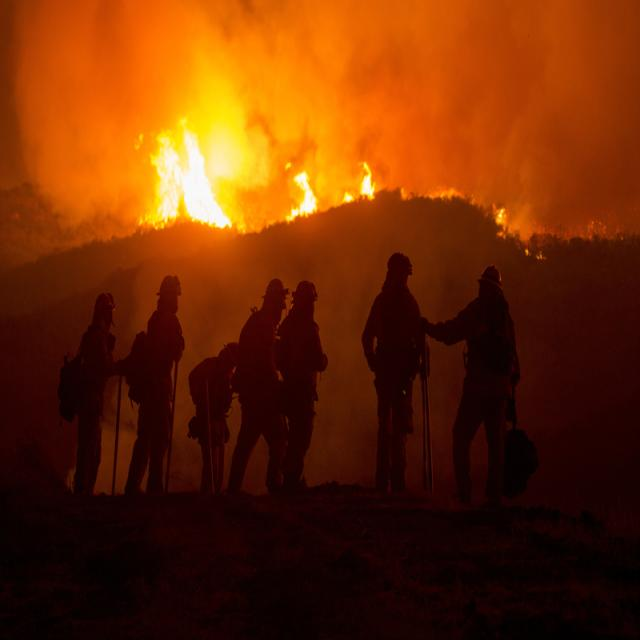Fire: (151, 138, 244, 252), (288, 160, 382, 220)
Smoke: (5, 0, 640, 213)
